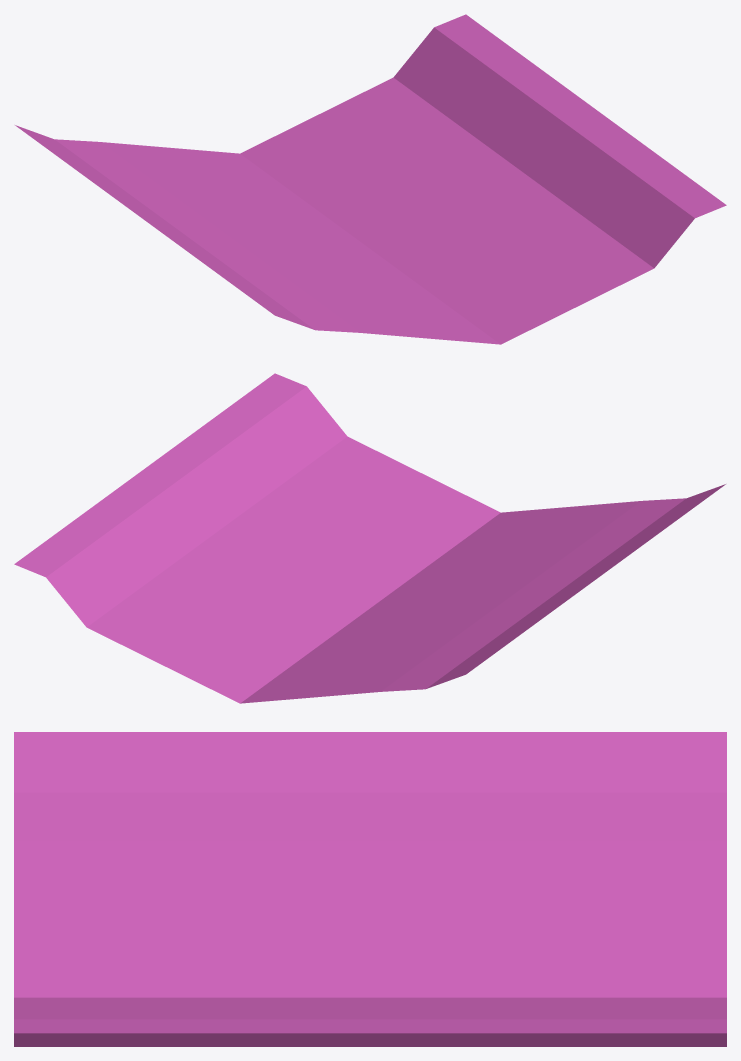
Rendered from holl.fbx.
3 renders of one model, top to bottom at view 1: azimuth 30°, elevation 25°; view 2: azimuth 150°, elevation 25°; view 3: azimuth 270°, elevation 25°, orthographic. The views are drawn at different scales.
Visible parts, largest first — view 1: Plane; view 2: Plane; view 3: Plane.
Boxes of the visible parts, <box> form: Plane: <box>15,14,726,344</box>; Plane: <box>14,373,725,703</box>; Plane: <box>14,732,726,1046</box>.
Bounding box in the file's own units: 200 × 200 × 35.56.
